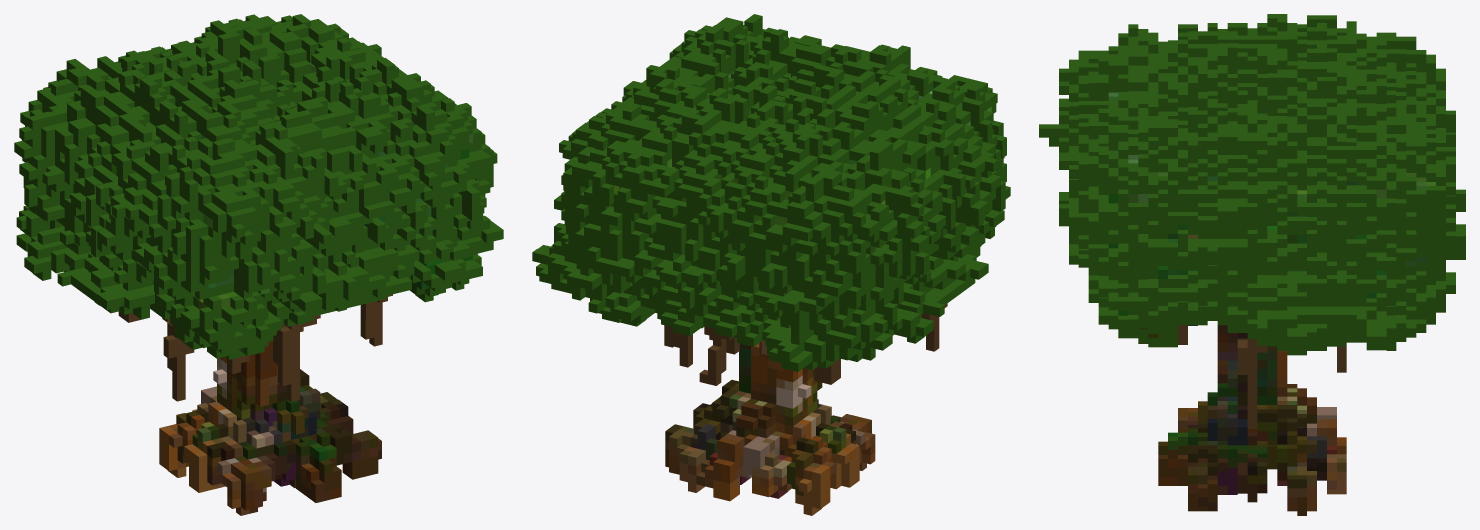
The model's file is beringin.fbx.
The picture shows the model from 3 angles, left to right: view 1: azimuth 30°, elevation 25°; view 2: azimuth 150°, elevation 25°; view 3: azimuth 270°, elevation 25°; orthographic projection. The views are drawn at different scales.
Visible parts, largest first — view 1: Untitled; view 2: Untitled; view 3: Untitled.
Part boxes in pixels (<box>): Untitled: <box>14,14,503,515</box>; Untitled: <box>532,14,1010,515</box>; Untitled: <box>1039,14,1465,515</box>.
Size of the model in its own units: 440 by 460 by 430.
Materials: 1 (1 with a texture image).
